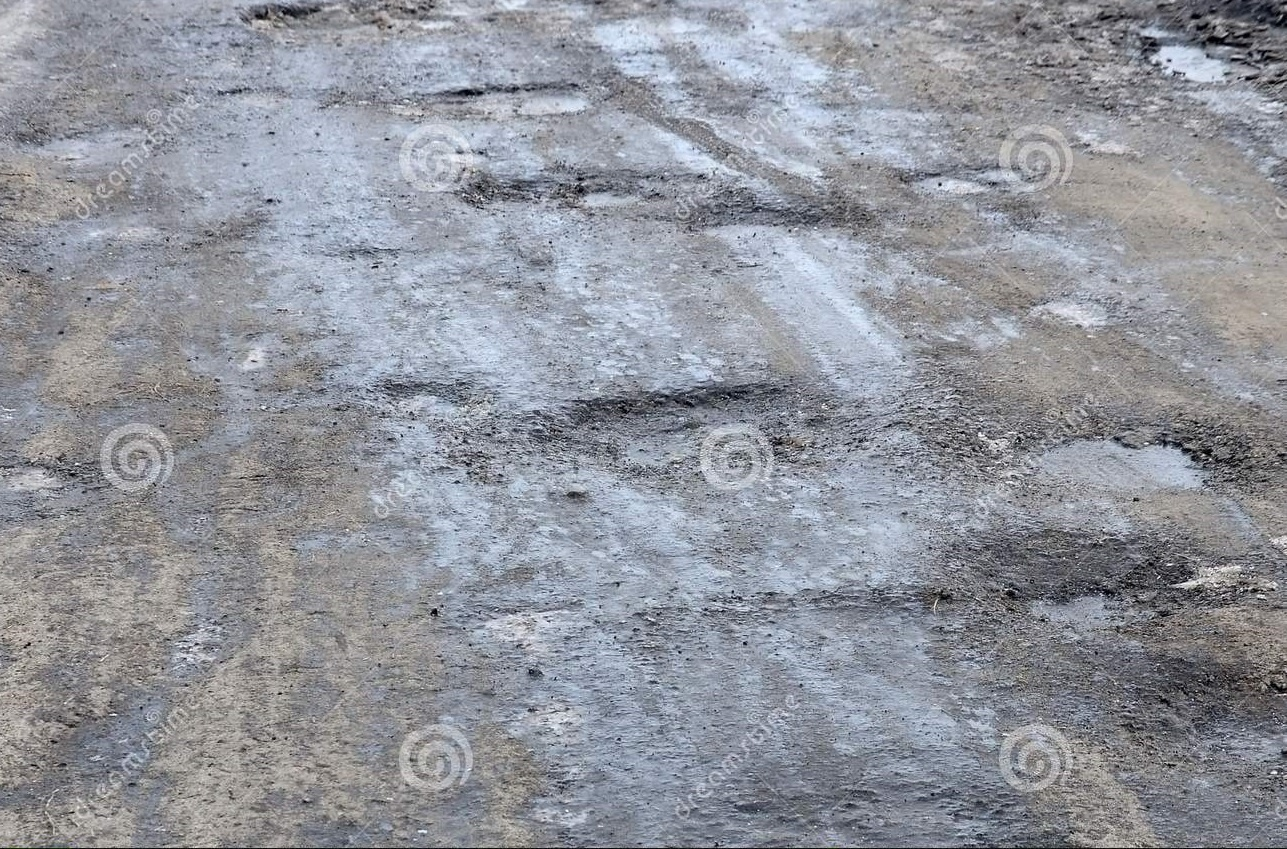pothole: (323, 306, 987, 522)
